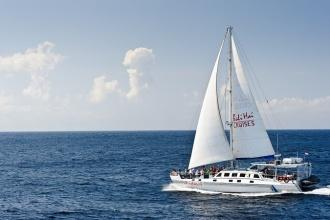fanchuan: (159, 24, 326, 188)
